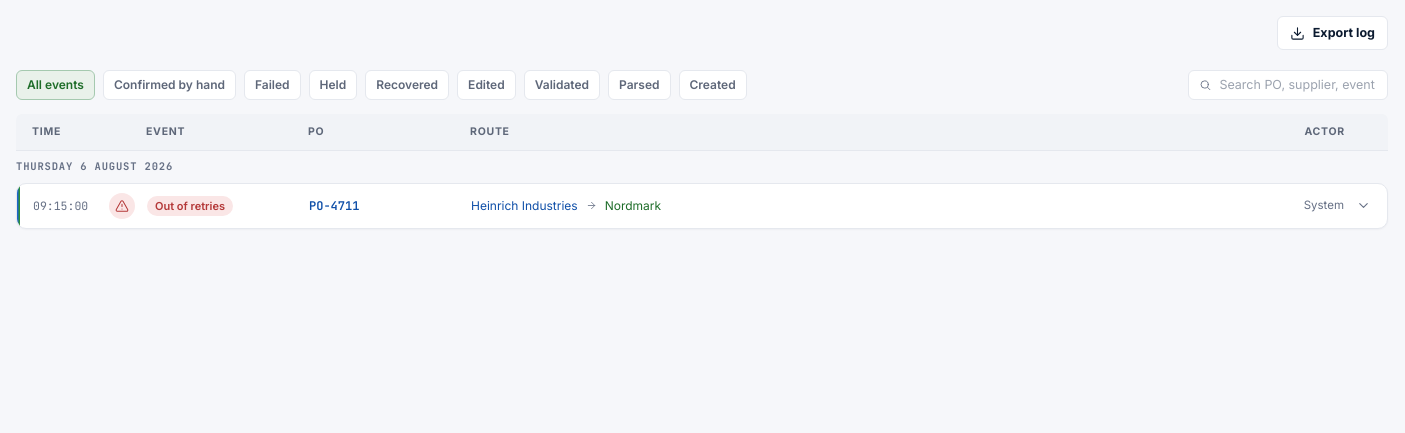
Test: CrossingsLog — the reason goes through the repo's one sanitiser › lifts the sentence out of a JSON body rather than showing the braces
The width and height of the screenshot is (1405, 433).
Click the button "PO-4711" at (61, 205), box x1=17 y1=184 x2=1387 y2=228
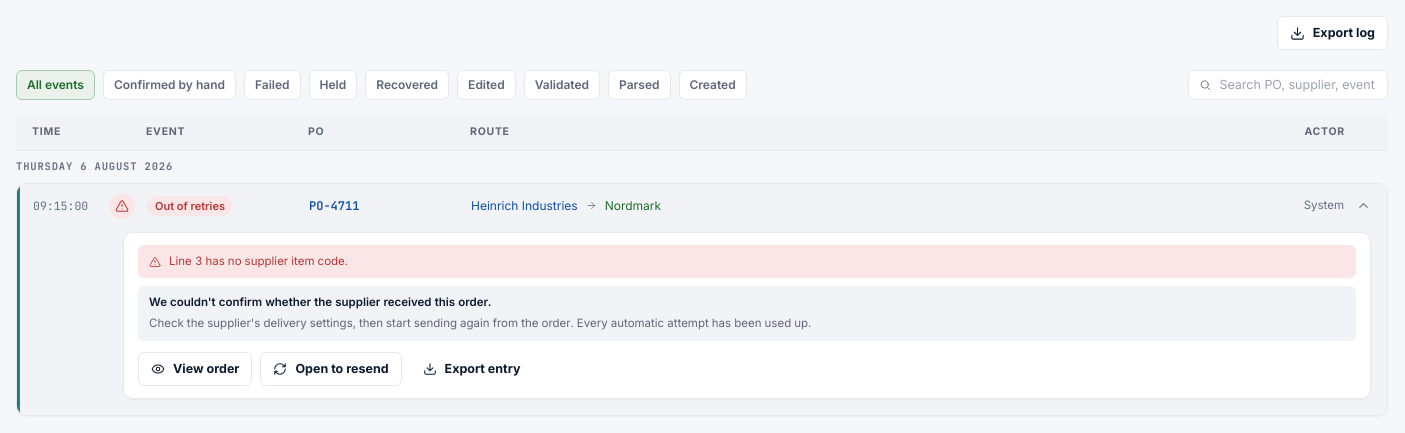
Check: the element with test id "audit-reason" reads "Line 3 has no supplier item code.", box x1=169 y1=254 x2=348 y2=268
